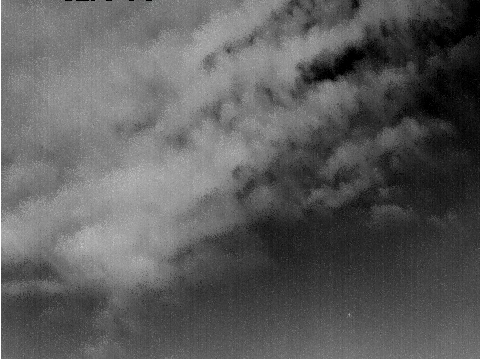dim target: (347, 312, 352, 317)
